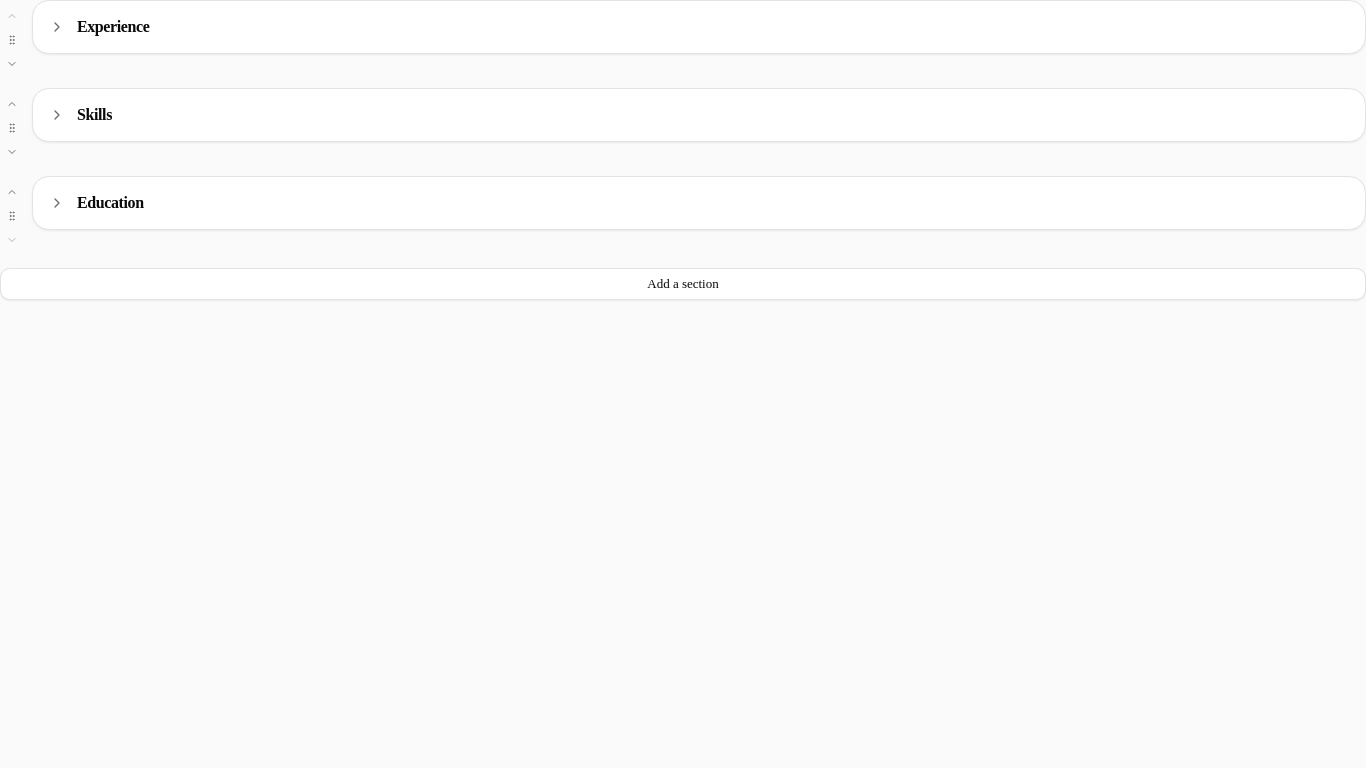
Test: deleting › counts a section that has bullets but no entries
Click the button "Skills" at [94, 114], box left=33, top=89, right=1365, bottom=141
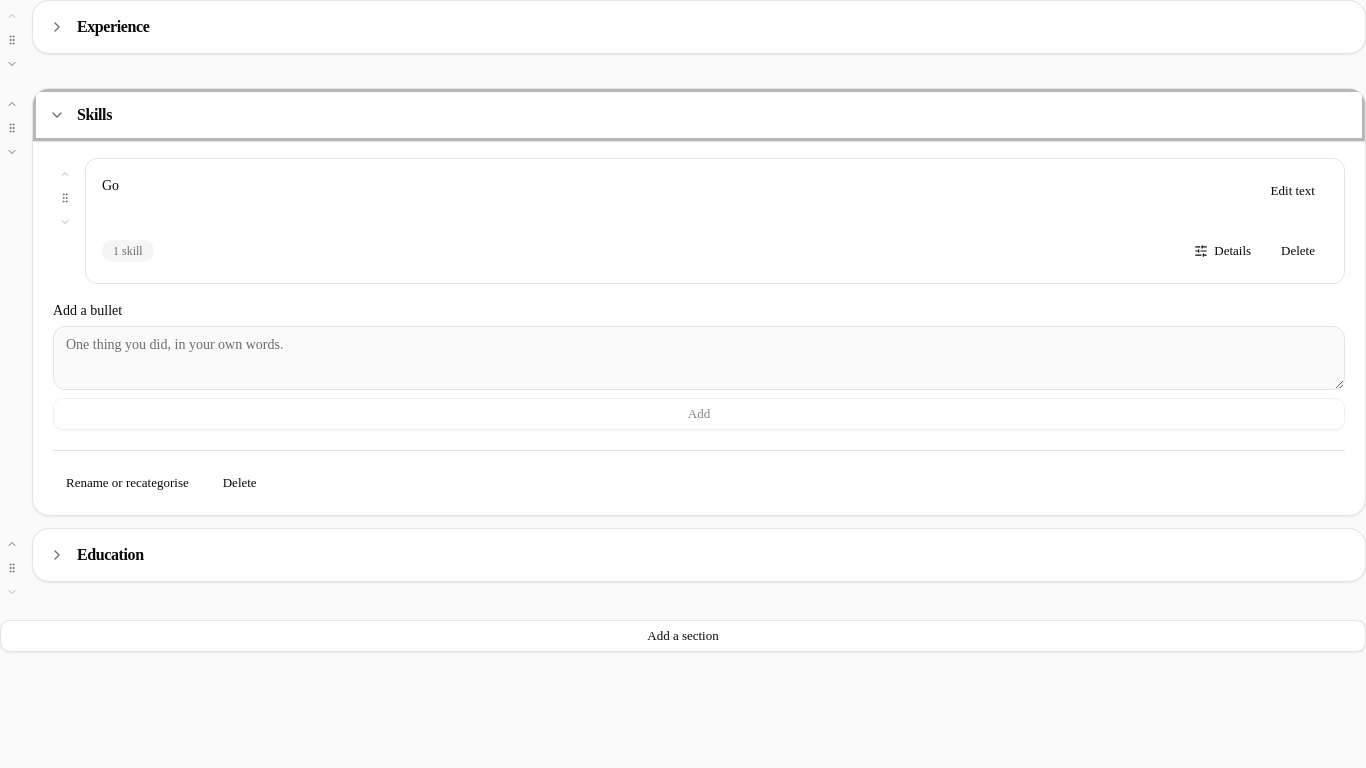
Click the button with aria-label "Delete the section Skills" at [240, 483], box left=210, top=467, right=270, bottom=499
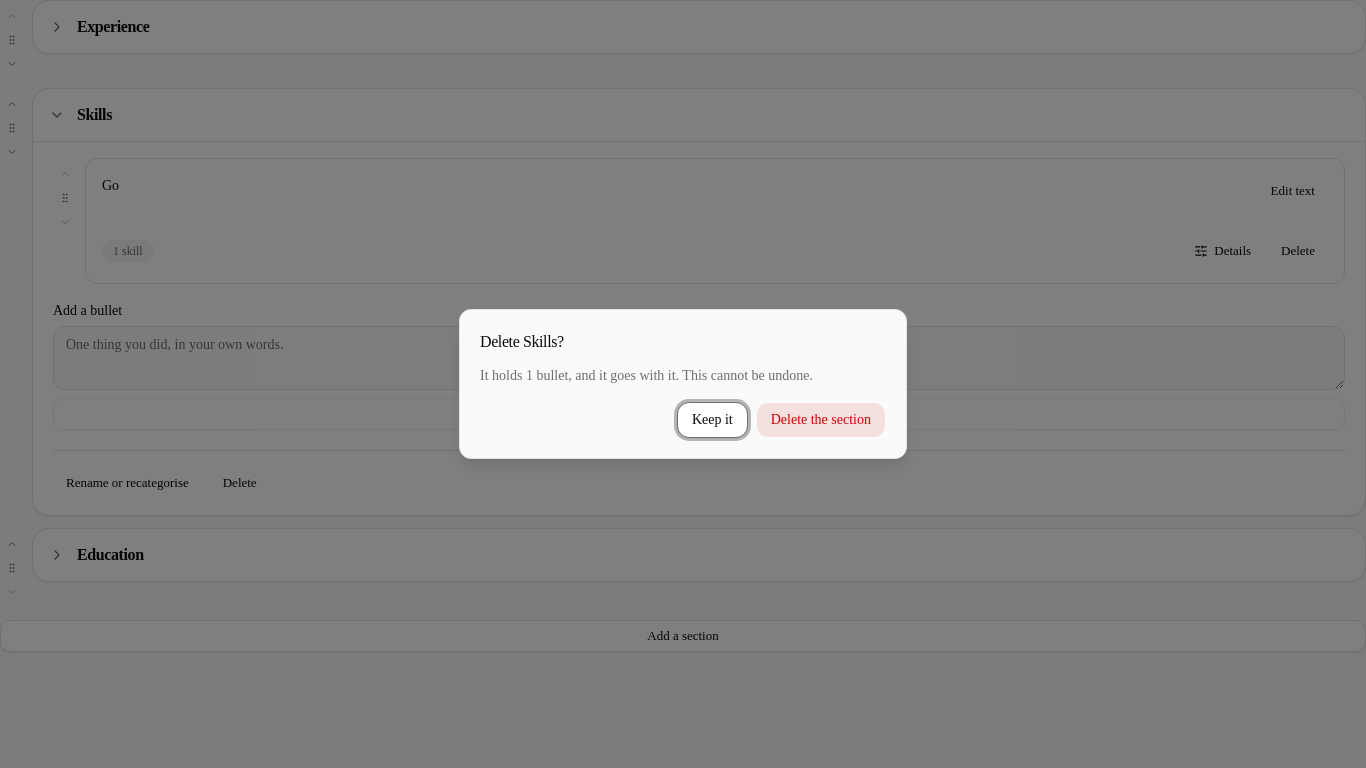
Now the text "It holds 1 bullet, and it goes with it" is shown, box left=480, top=368, right=813, bottom=383
